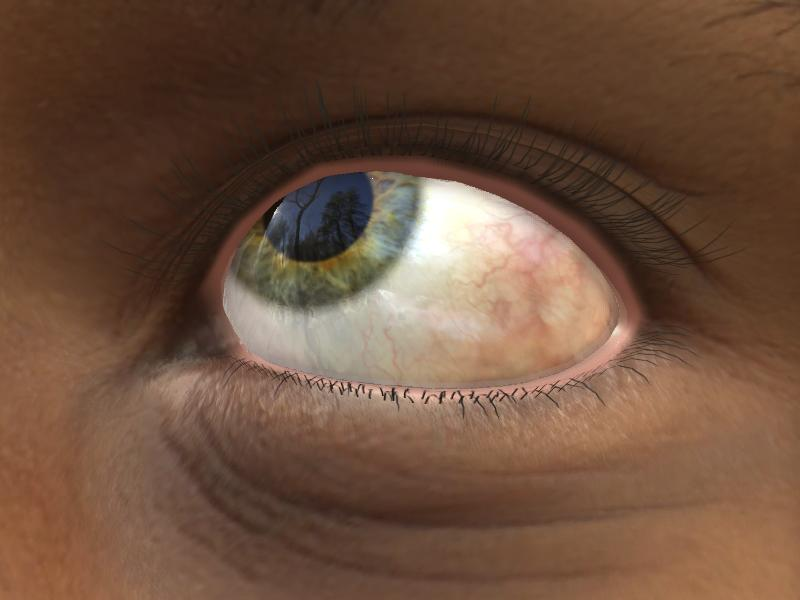eye: (230, 172, 423, 310)
